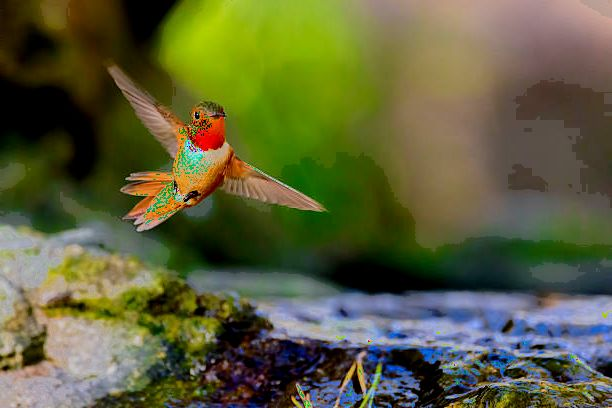Bird: (98, 58, 331, 235)
